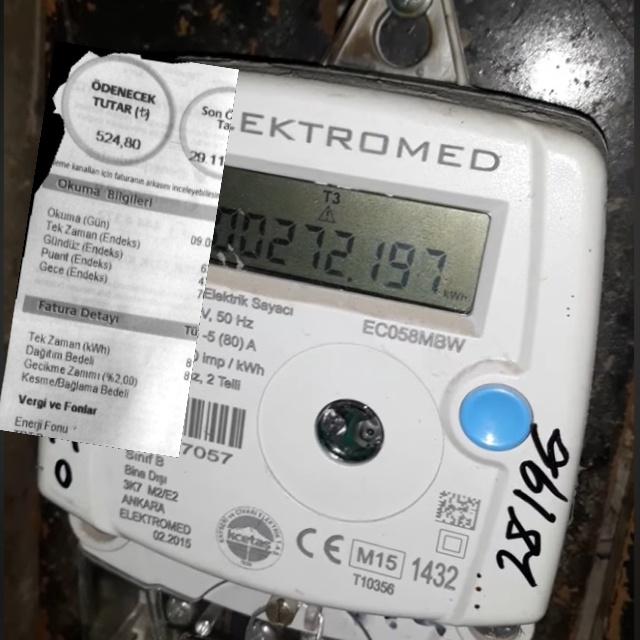electricity-bill: (0, 40, 239, 457)
